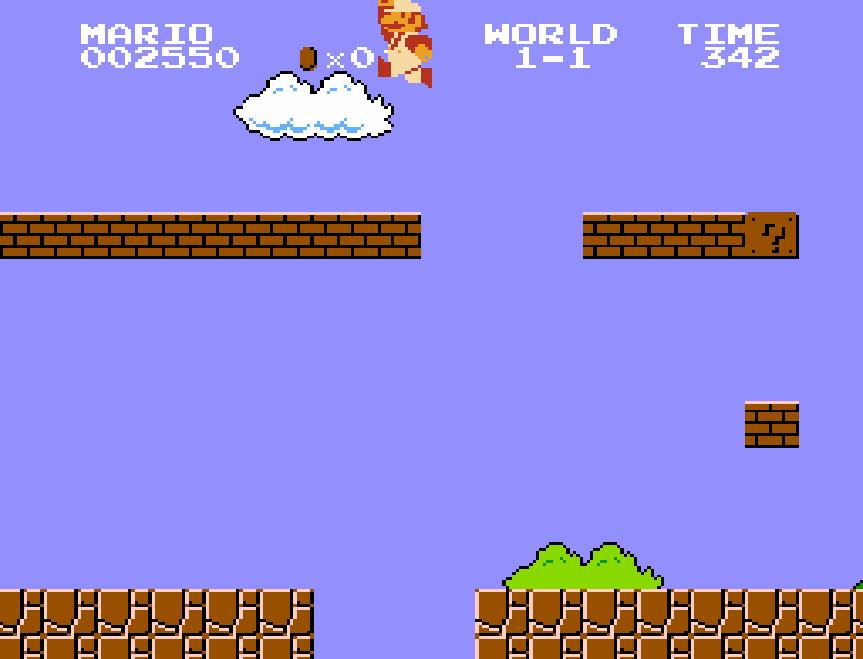fire_mario: (376, 0, 434, 89)
